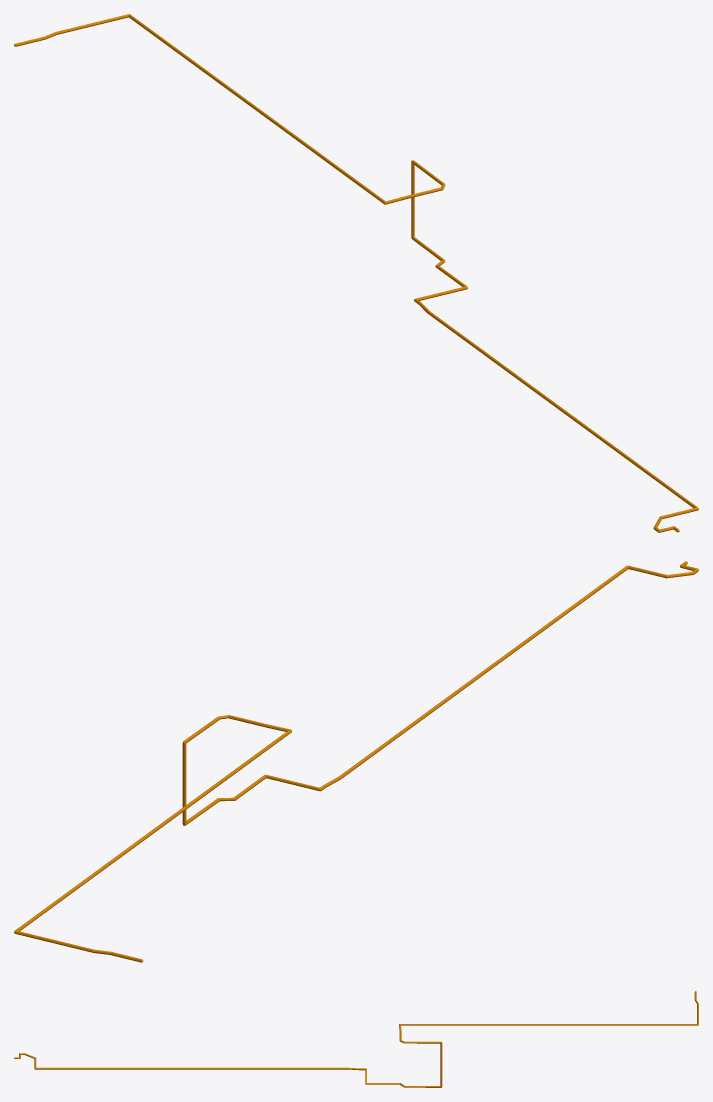
3 views of the same model, one above another, from view 1: azimuth 30°, elevation 25°; view 2: azimuth 150°, elevation 25°; view 3: azimuth 270°, elevation 25° (orthographic). The views are drawn at different scales.
Size of the model in its own units: 1248 by 520 by 7009.
